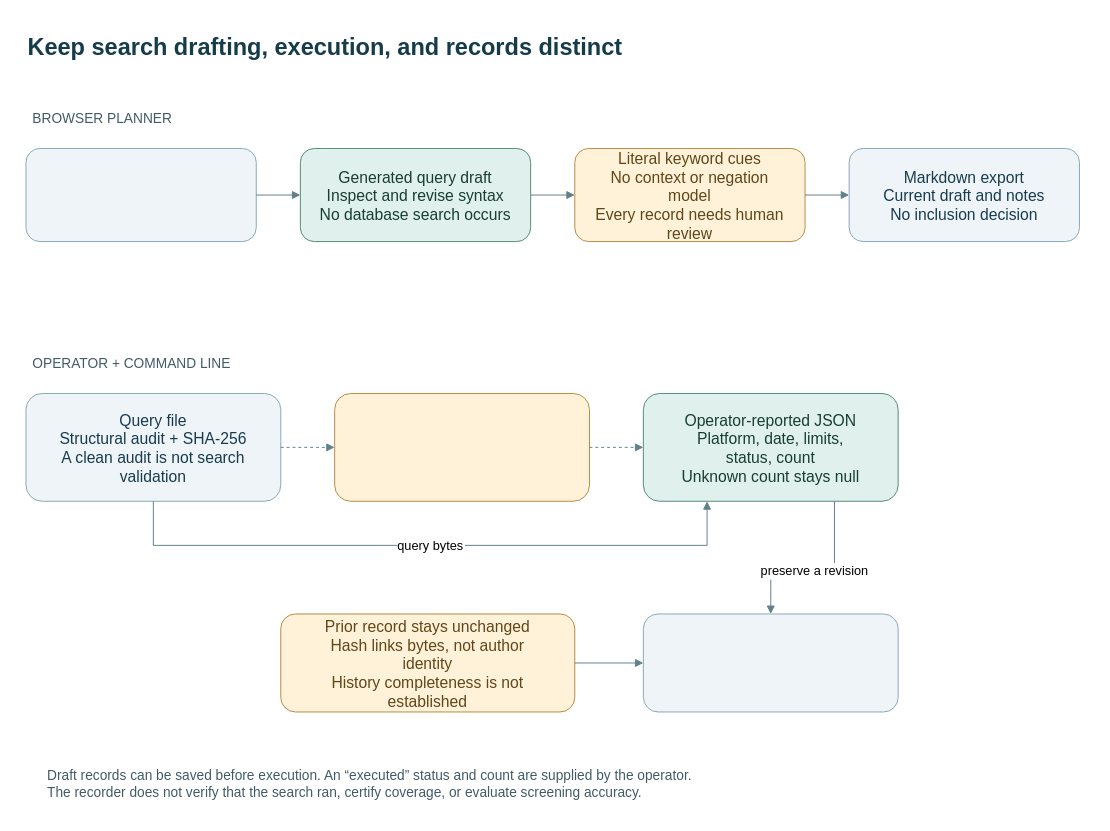
Some shapes in this 1110 by 831 pixel diagram are drawn without their labels. The shapes that lost their labels are listed below. From the top down, each one's centre as x and y in pixels, then its label:
At point 140,194: "Question + eligibility Enter terms and plans".
At point 461,446: "Actual database Operator tests / executes search Outside Review Compass".
At point 770,662: "New revision record Prior ID + file hash + reason New ID and new output path".
